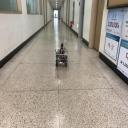cart: (55, 50, 68, 68)
